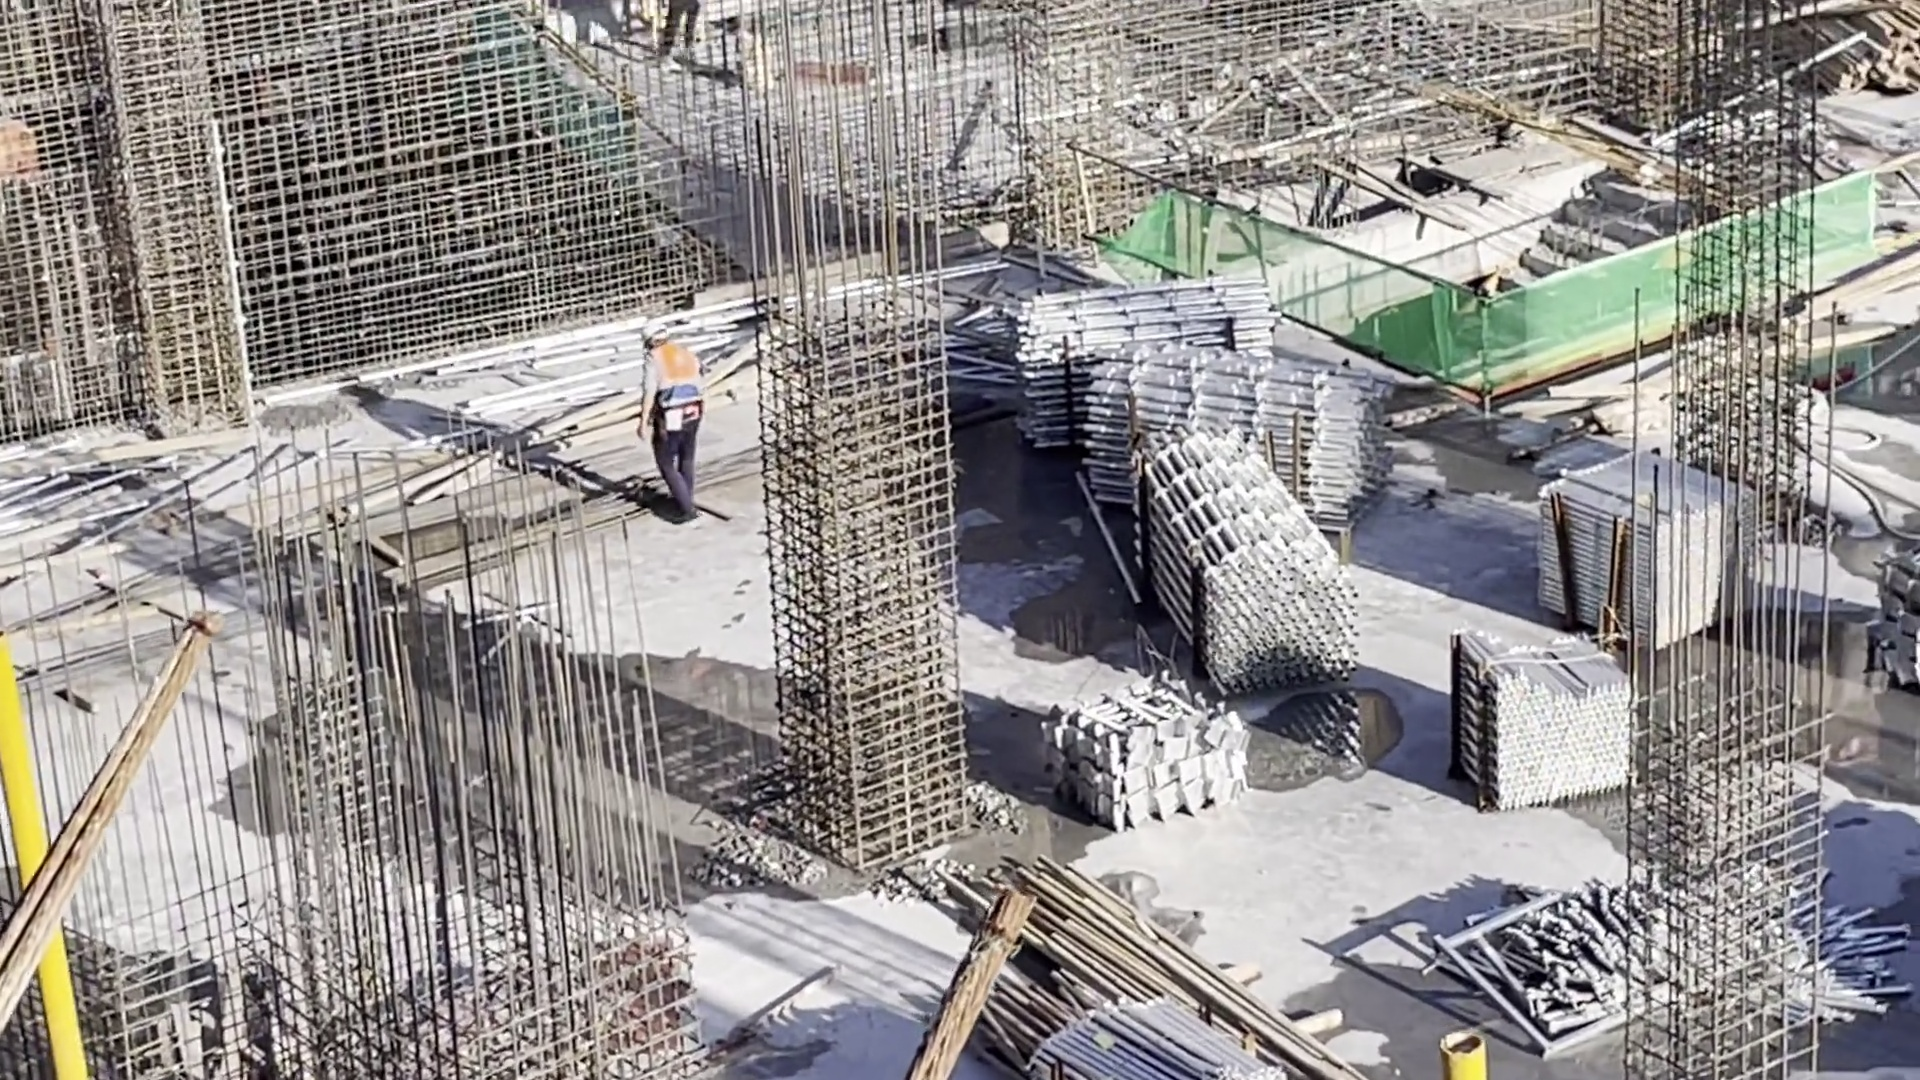helmet: (637, 322, 672, 344)
person: (633, 320, 714, 523), (656, 1, 715, 59)
scaffold: (1465, 882, 1895, 1027), (1549, 475, 1747, 655), (1471, 616, 1651, 795), (1176, 452, 1316, 663), (1131, 373, 1377, 493), (1015, 289, 1291, 369), (1060, 1017, 1266, 1080)
vest: (646, 347, 702, 398)
wood: (1785, 9, 1920, 97)
